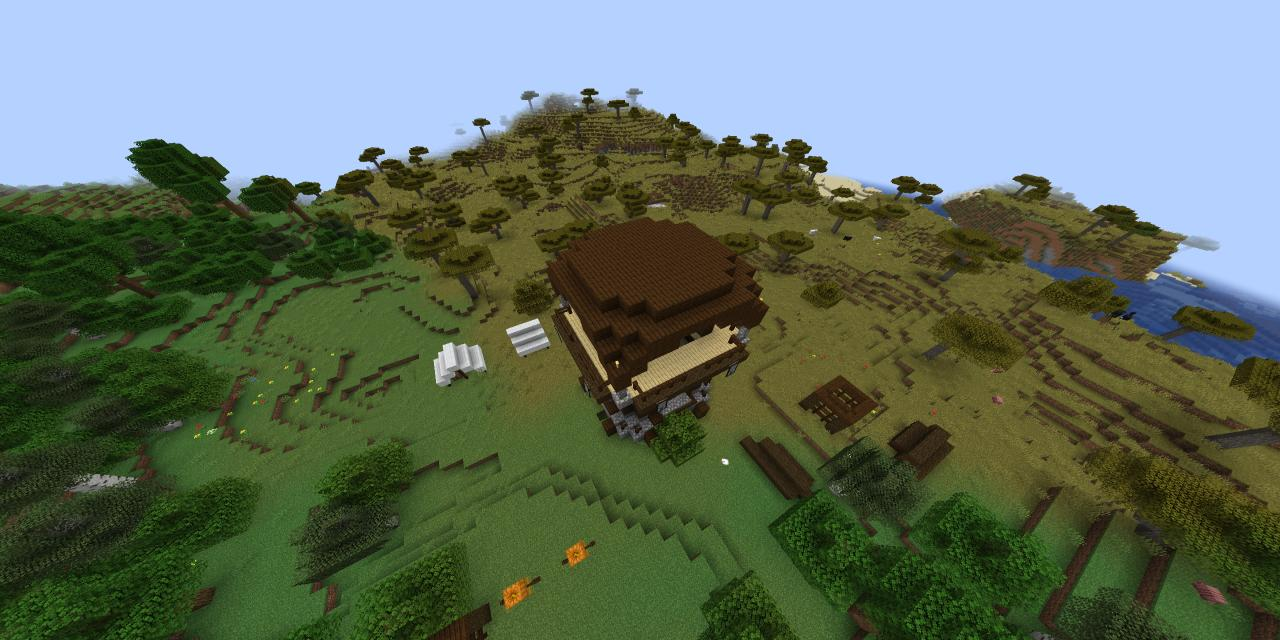pillager outpost: (534, 203, 788, 481)
